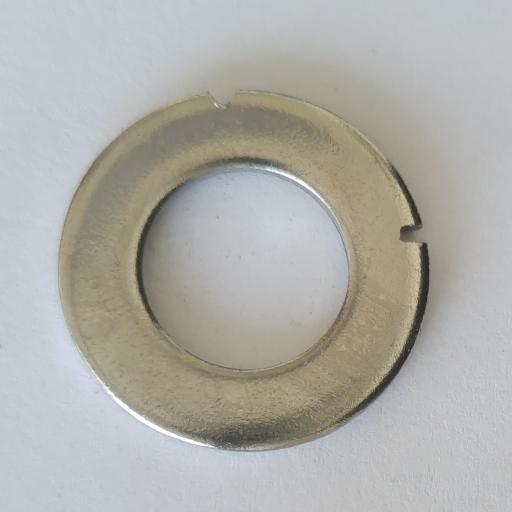burr: (206, 89, 239, 112), (399, 222, 427, 248)
